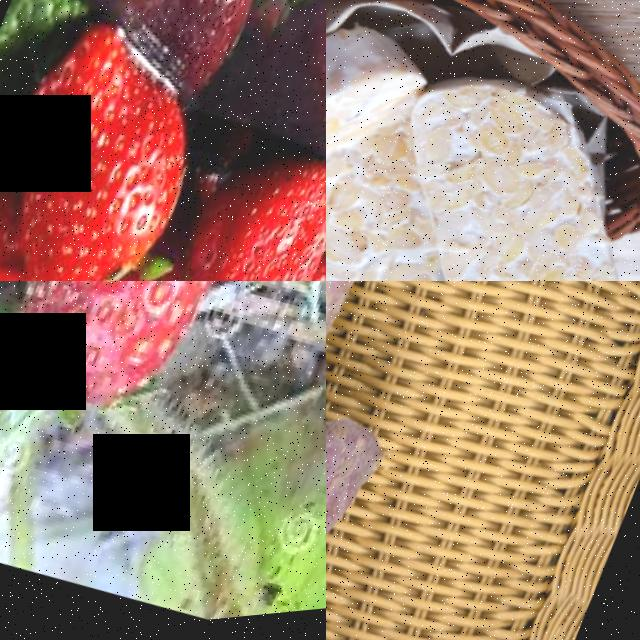strawberry: (0, 2, 235, 281), (0, 281, 284, 445), (156, 128, 326, 281)
sweet potato: (326, 391, 396, 616), (326, 281, 408, 454)
tempeh: (326, 61, 640, 281), (326, 0, 427, 281), (326, 145, 480, 281)
